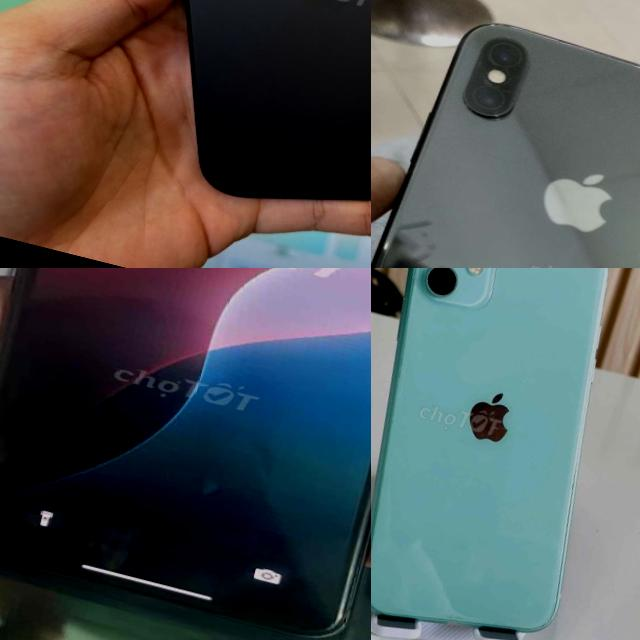gen_11: (0, 268, 371, 640), (371, 268, 640, 640)
gen_14: (71, 0, 371, 257)
gen_x_xs: (371, 24, 640, 268)
scratch: (475, 16, 514, 36)
